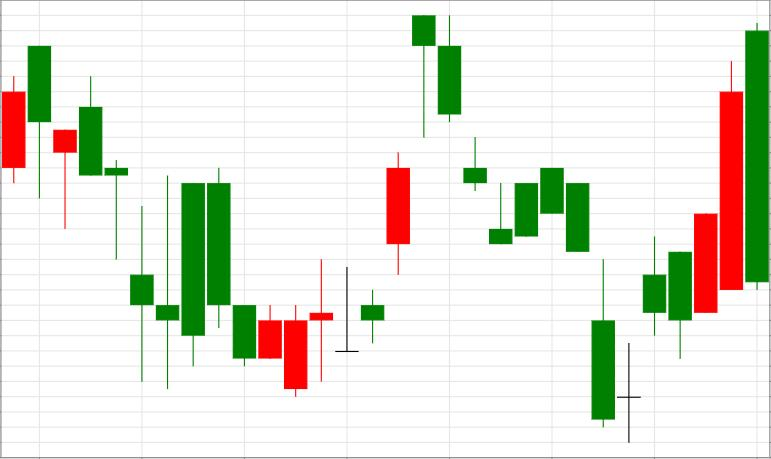hanging_man_fall: (335, 16, 436, 353)
